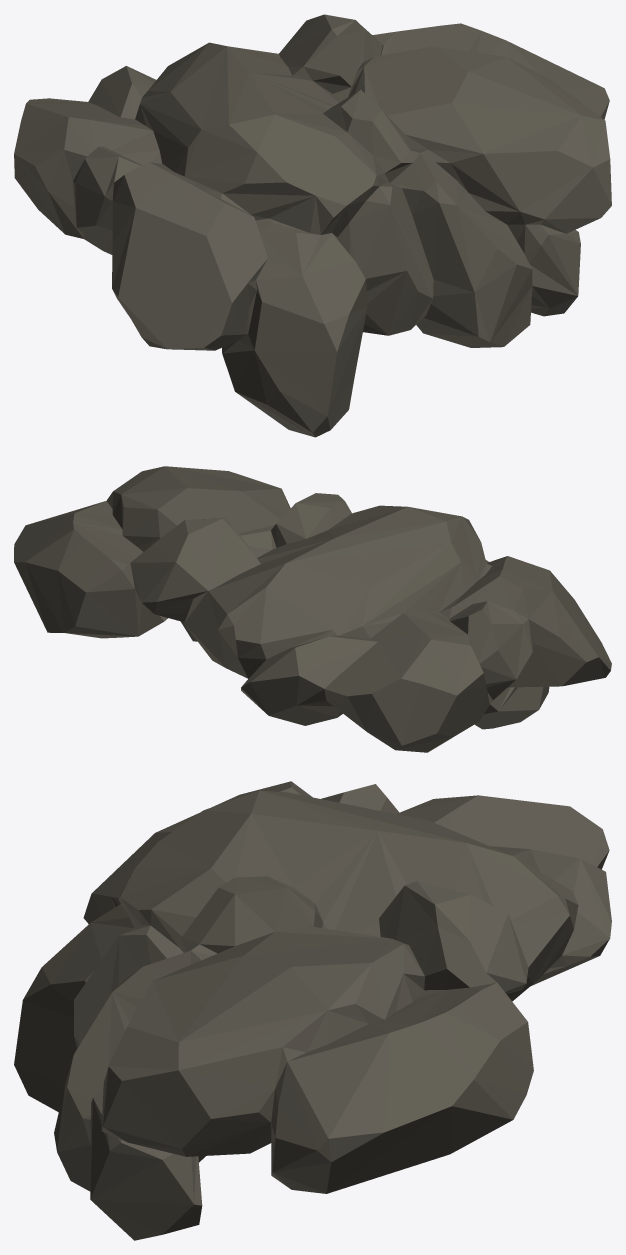
File: synty-rock-pile-curved-02.gltf
3 renders of one model, top to bottom at view 1: azimuth 30°, elevation 25°; view 2: azimuth 150°, elevation 25°; view 3: azimuth 270°, elevation 25°, orthographic. The views are drawn at different scales.
Visible parts, largest first — view 1: SM_Rock_Pile_Curved_02; view 2: SM_Rock_Pile_Curved_02; view 3: SM_Rock_Pile_Curved_02.
Part boxes in pixels (<box>): SM_Rock_Pile_Curved_02: <box>14,14,611,437</box>; SM_Rock_Pile_Curved_02: <box>14,466,611,752</box>; SM_Rock_Pile_Curved_02: <box>14,781,611,1240</box>.
Bounding box in the file's own units: 5.05 × 2.44 × 3.9.
Materials: 1 (1 with a texture image).
